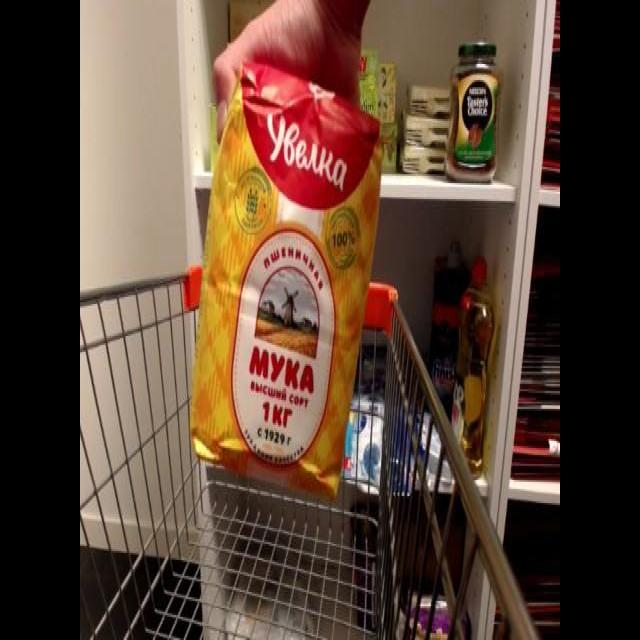Flour: (186, 70, 390, 495)
